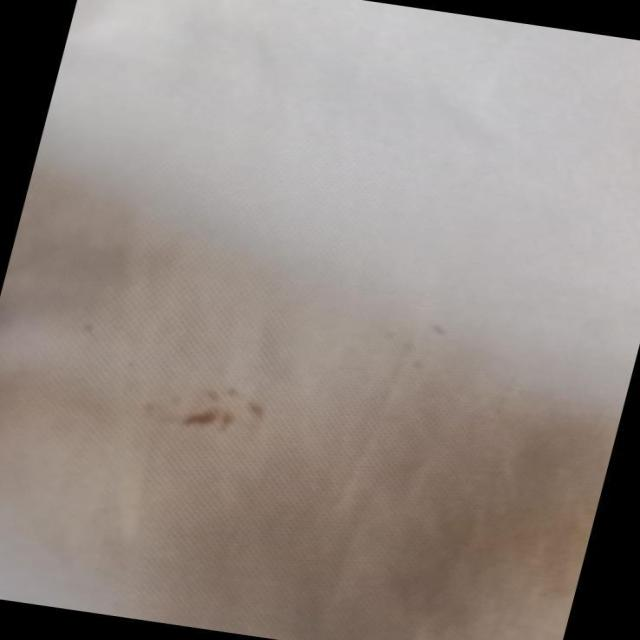stain: (132, 362, 287, 447)
